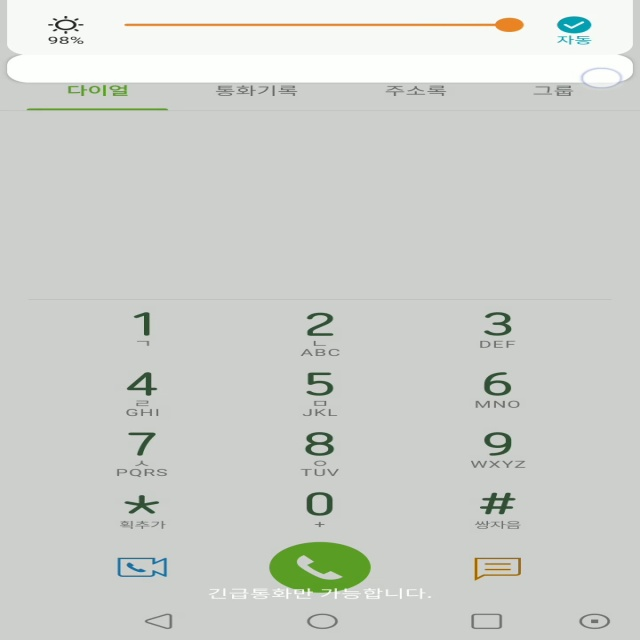Cursor: (581, 68, 625, 90)
